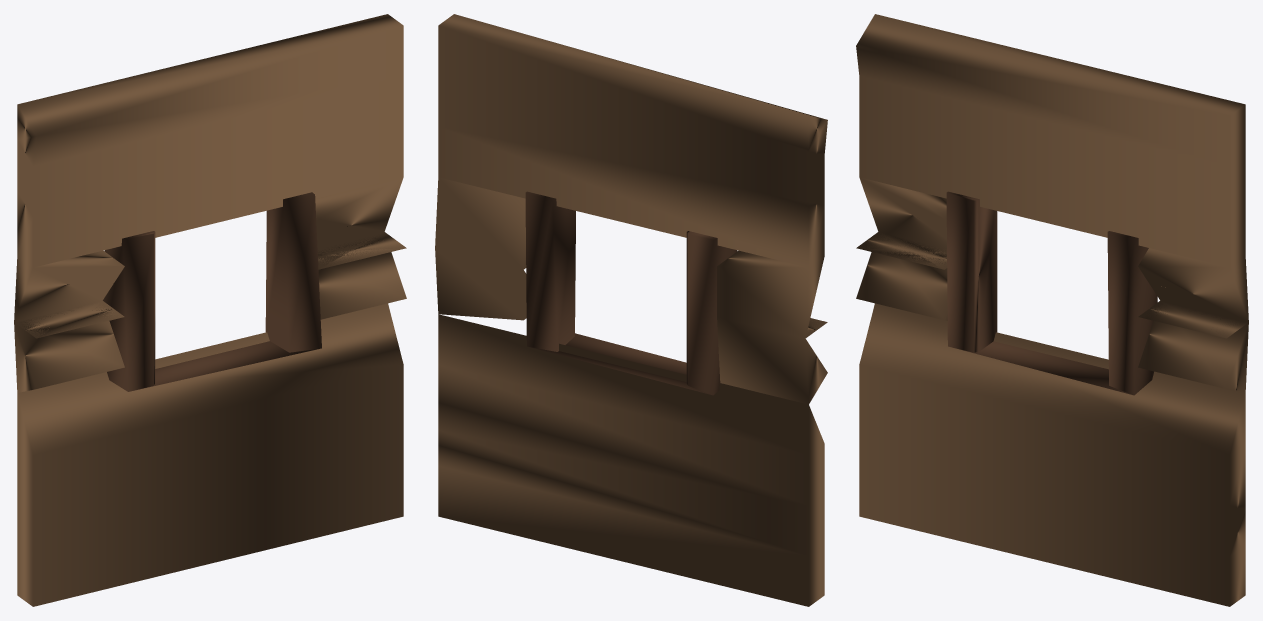
Rendered from wall_log_window_lod1.glb.
The picture shows the model from 3 angles, left to right: view 1: azimuth 30°, elevation 25°; view 2: azimuth 150°, elevation 25°; view 3: azimuth 330°, elevation 25°; orthographic projection.
Size of the model in its own units: 2.3 by 2.91 by 0.32.
